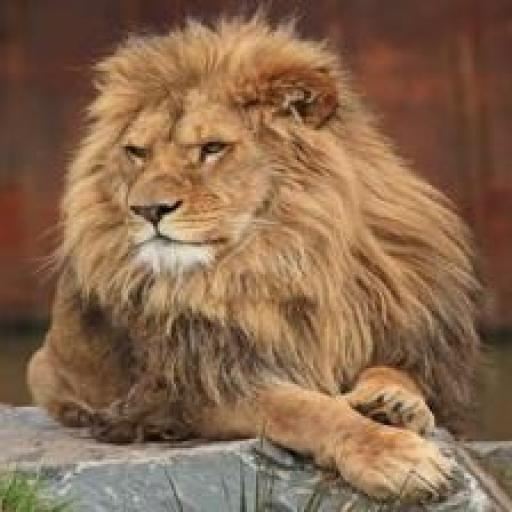lion: (55, 23, 443, 336)
